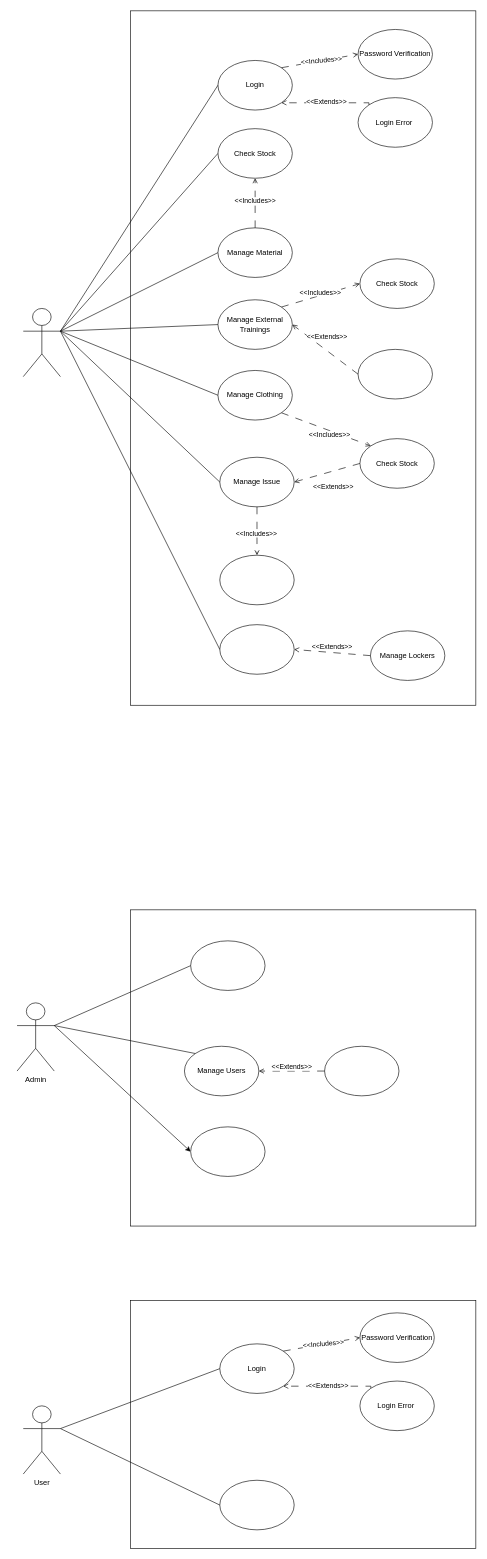
Some shapes in this 487 by 1559 pixel diagram are drawn without their labels. The shapes that lost their labels are listed below. From the top down, each one's centre as x and y in pixels, then its label:
[41,342]: Technician / Admin
[394,374]: Add Partner
[256,580]: Manage Ticket
[256,649]: Manage Students
[227,965]: Check dashboard
[361,1071]: Manage Roles
[227,1151]: Schedule Trainings
[256,1505]: Submit Ticket
